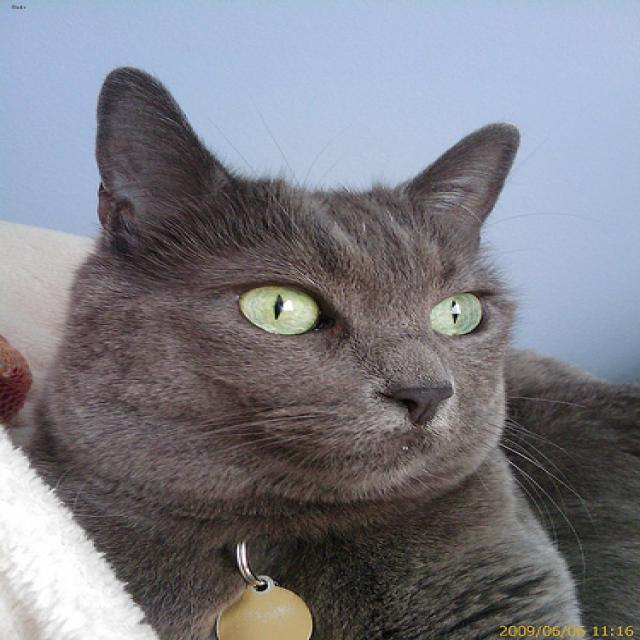Russian_Blue: (94, 65, 519, 474)
